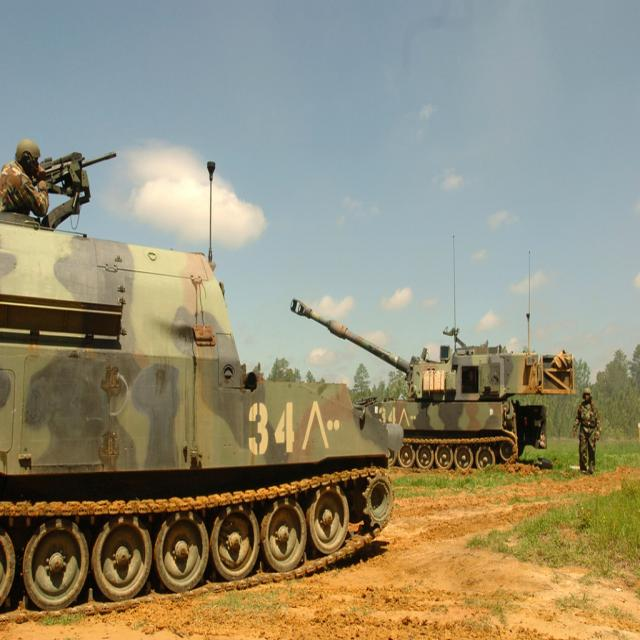tank: (0, 150, 405, 620), (289, 233, 577, 474)
